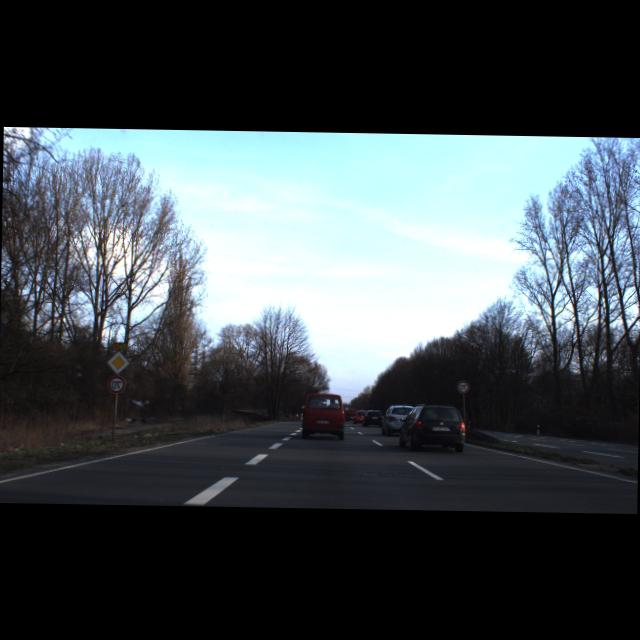other: (106, 350, 130, 373)
prohibitory: (106, 375, 125, 394), (456, 380, 469, 393)
